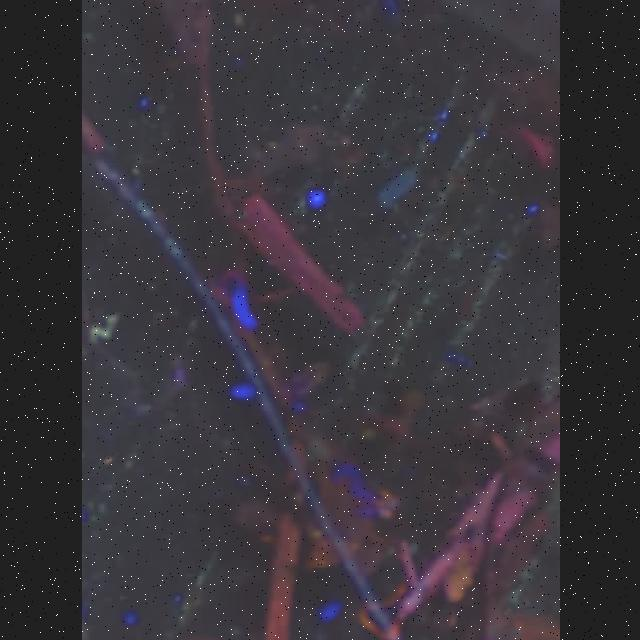Fibre: (86, 313, 120, 347)
